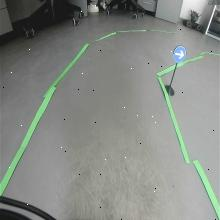right: (173, 46, 187, 64)
